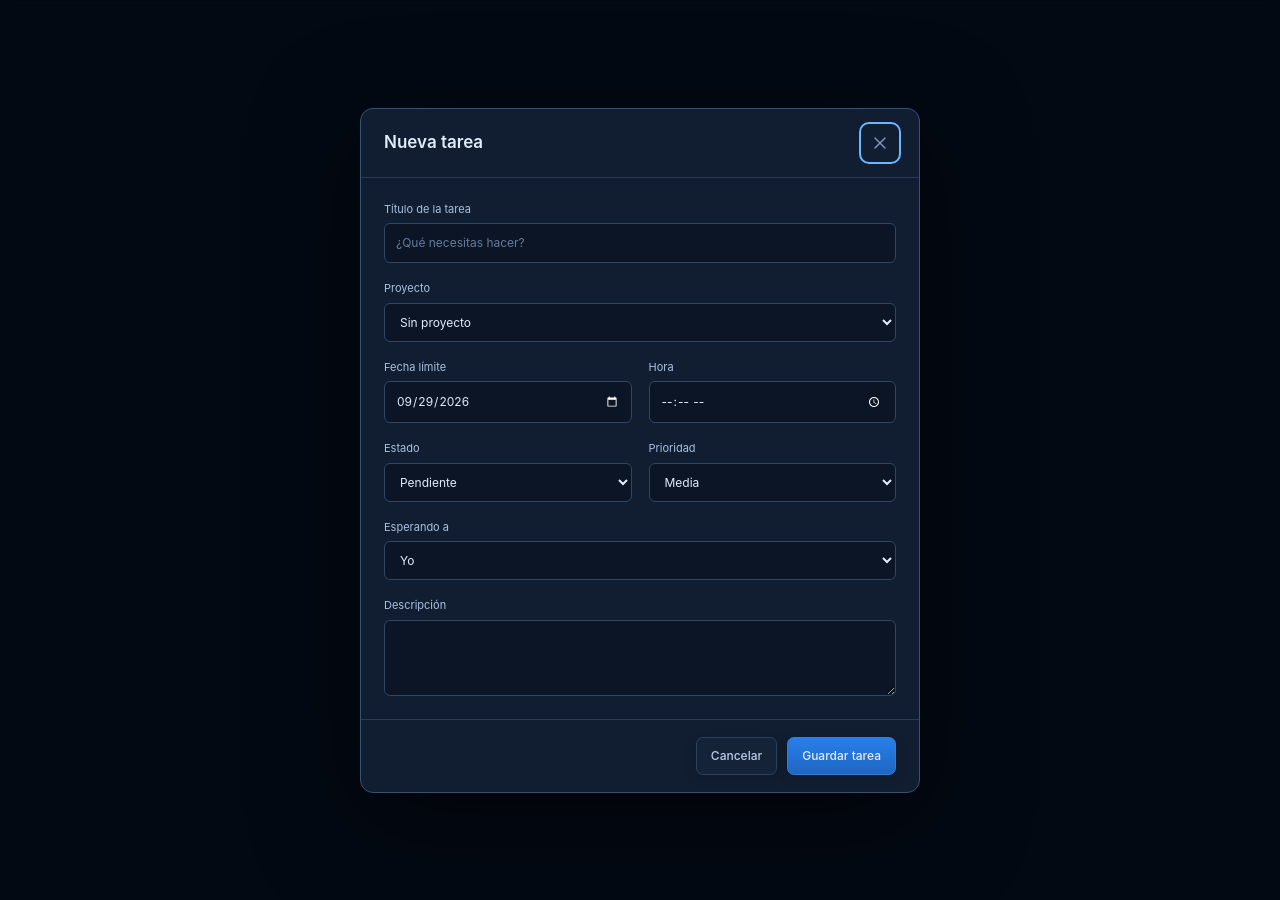
Test: muestra error al guardar y conserva el texto del usuario
Step 1. Type "Revisar evidencia" into the field labelled "Título de la tarea" → (640, 243), box [384,223,896,263]
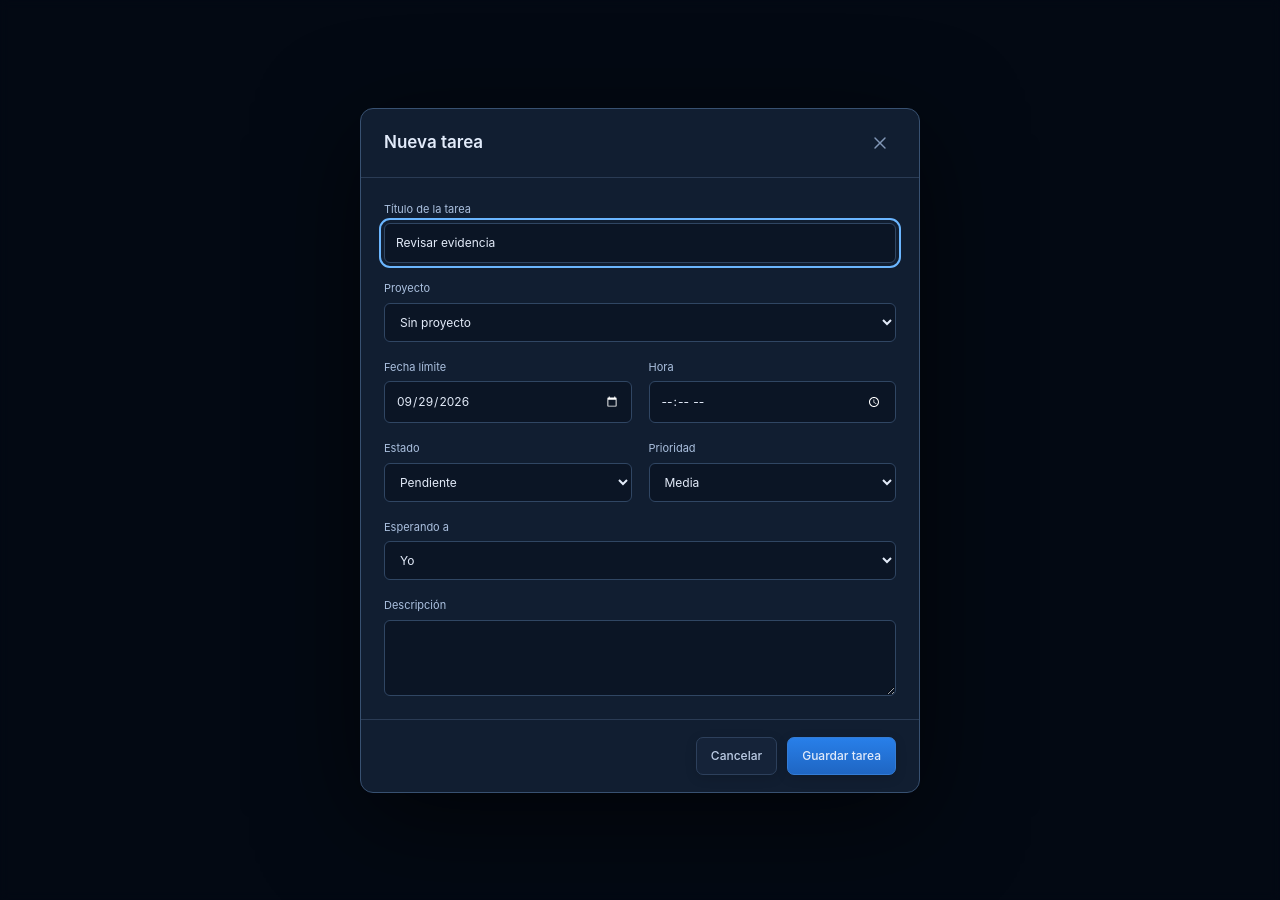
Step 2. Click the button "Guardar tarea" → (842, 756), box [787,736,896,774]
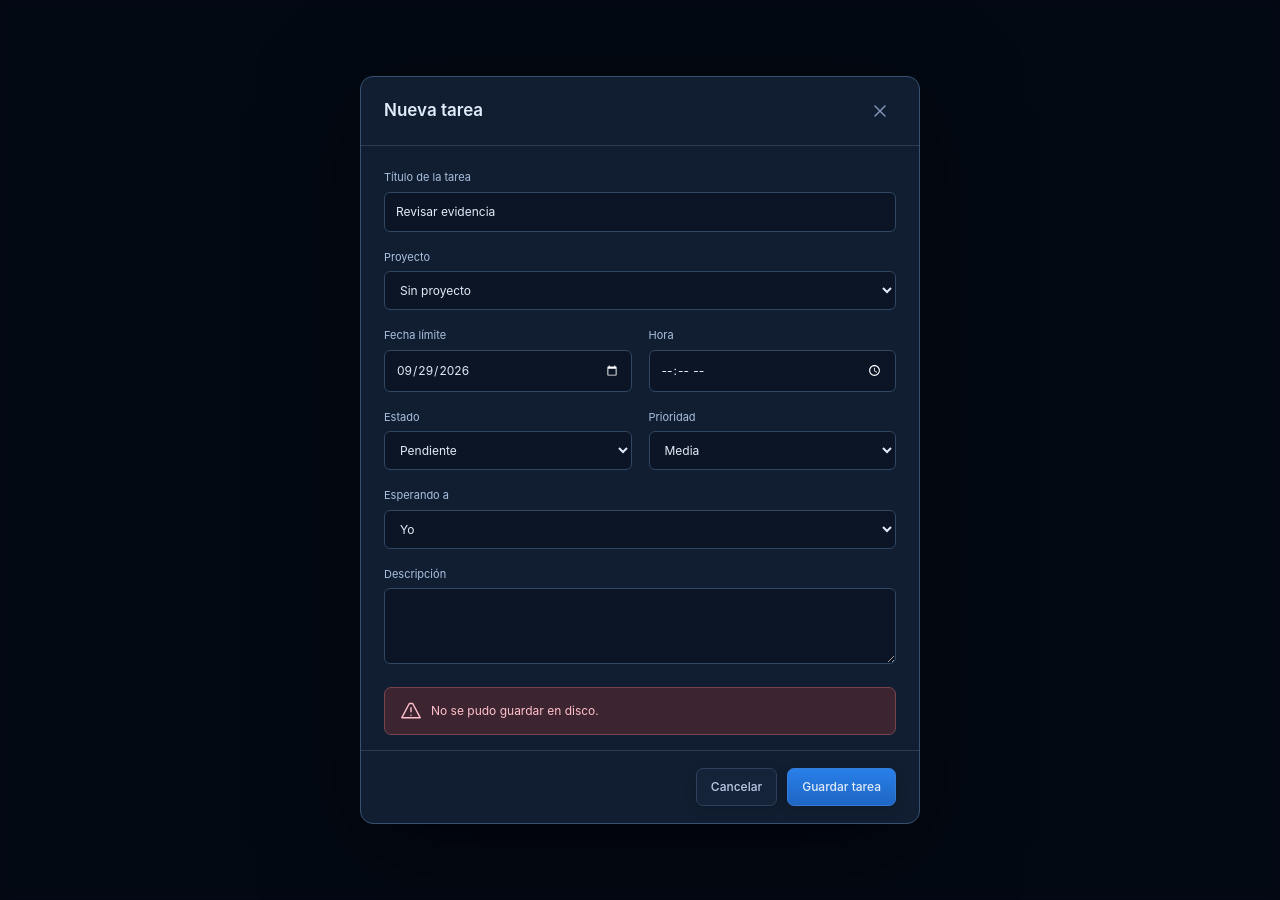
Check: the message reads "No se pudo guardar en disco.", box [431,703,599,718]
